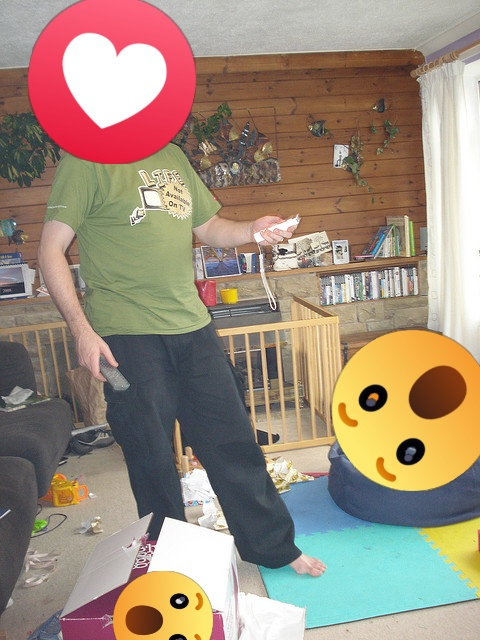love: (28, 0, 196, 164)
wow: (332, 330, 480, 491), (113, 571, 213, 640)
